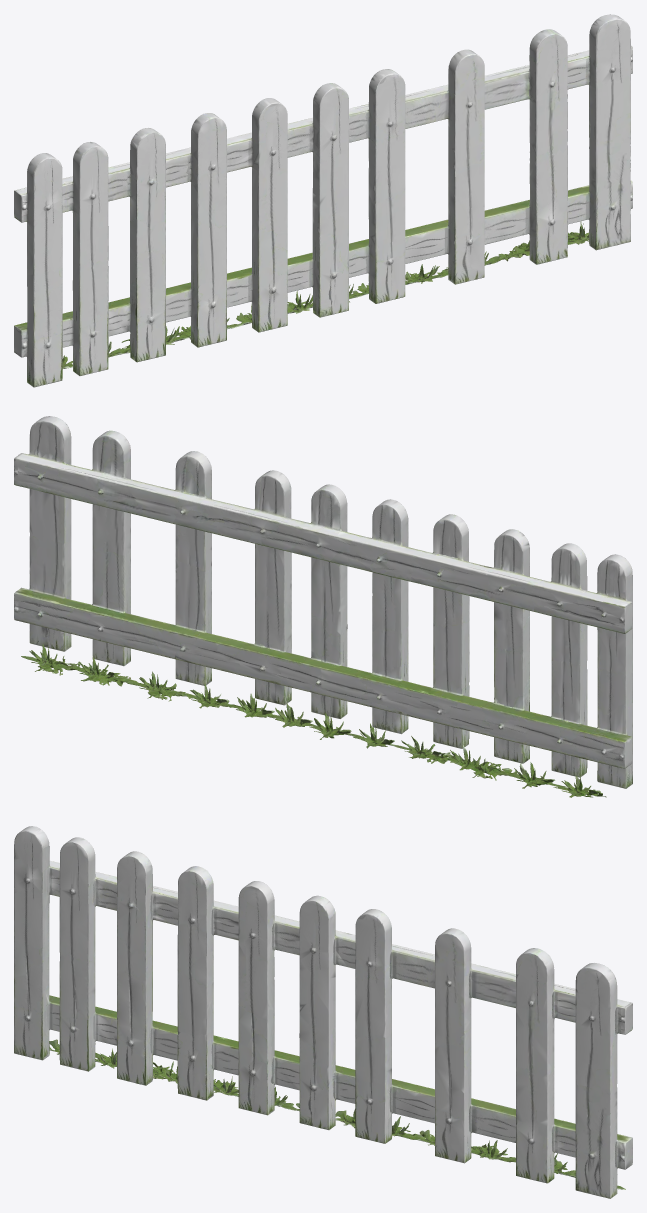
File: Meshy_AI_A_short_segment_of_a__0823155828_texture-optimized.glb
3 renders of one model, top to bottom at view 1: azimuth 30°, elevation 25°; view 2: azimuth 150°, elevation 25°; view 3: azimuth 330°, elevation 25°, orthographic.
Parts seen in each view (by area): view 1: mesh_node; view 2: mesh_node; view 3: mesh_node.
Boxes of the visible parts, x1,y1,x2,y2 form: mesh_node: (14, 14, 632, 387); mesh_node: (14, 416, 632, 797); mesh_node: (14, 826, 632, 1198).
Size of the model in its own units: 1.9 by 0.6932 by 0.1608.
1 material, 1 textured.
